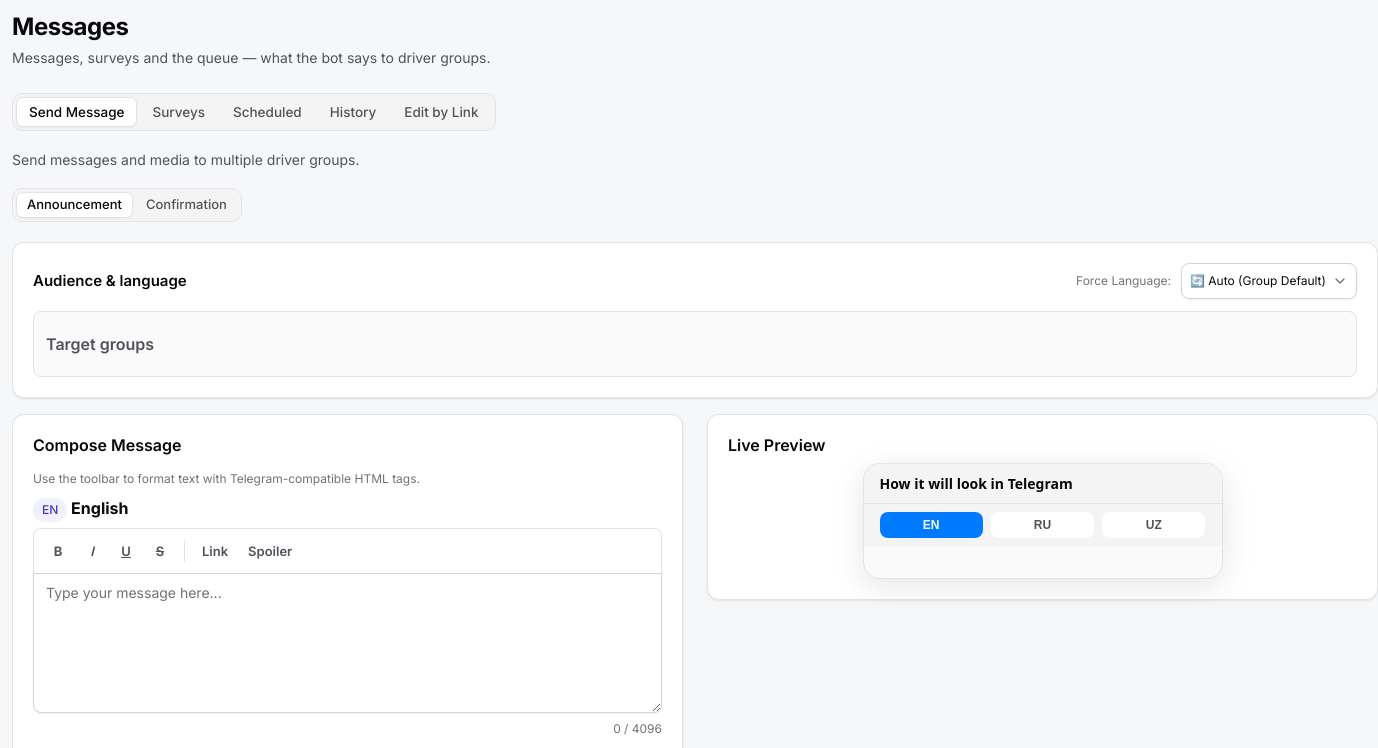
Scenario: one tab failing does not take the section down › the tab bar survives, and another tab still opens
The image size is (1378, 748).
Click the tab "Surveys" at (179, 112), box [140,97,218,127]
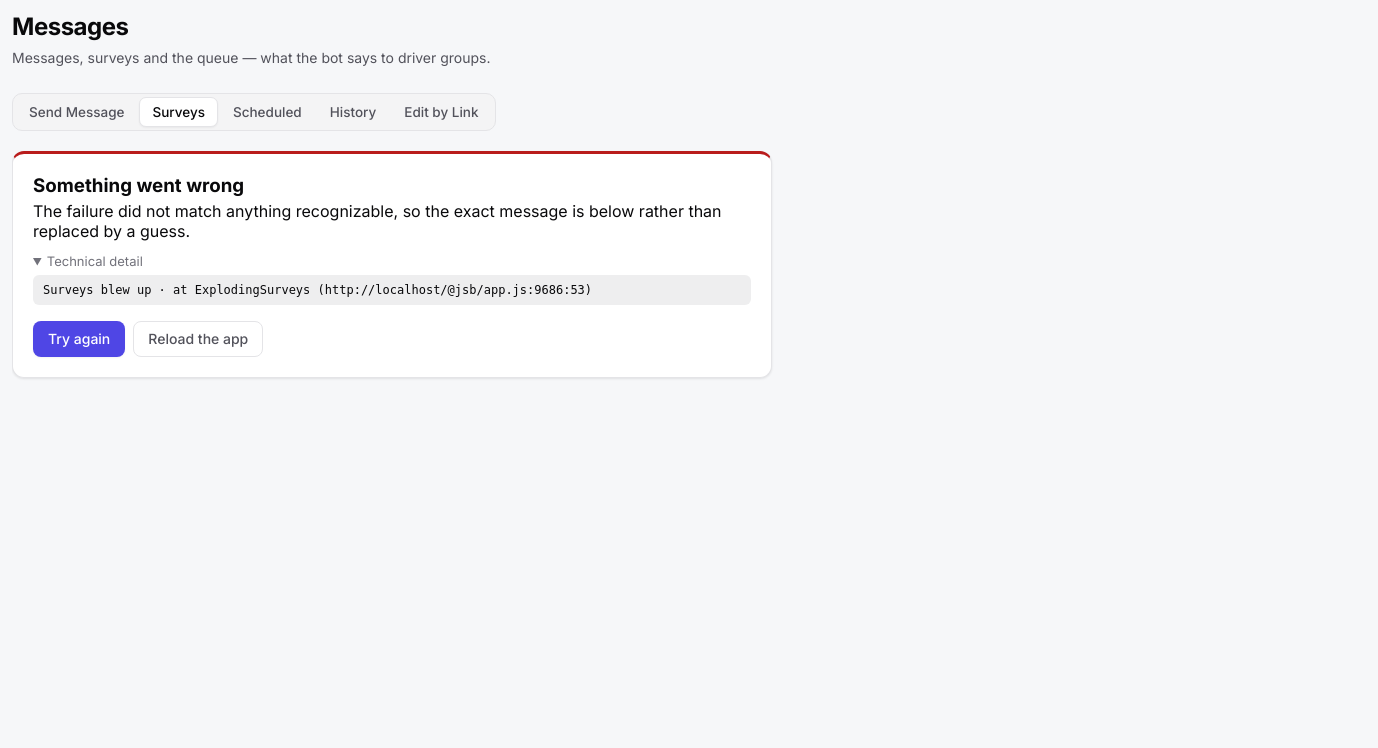
Note: ...and it still works, without leaving the section.
Click the tab "Scheduled" at (267, 112), box [220,97,315,127]
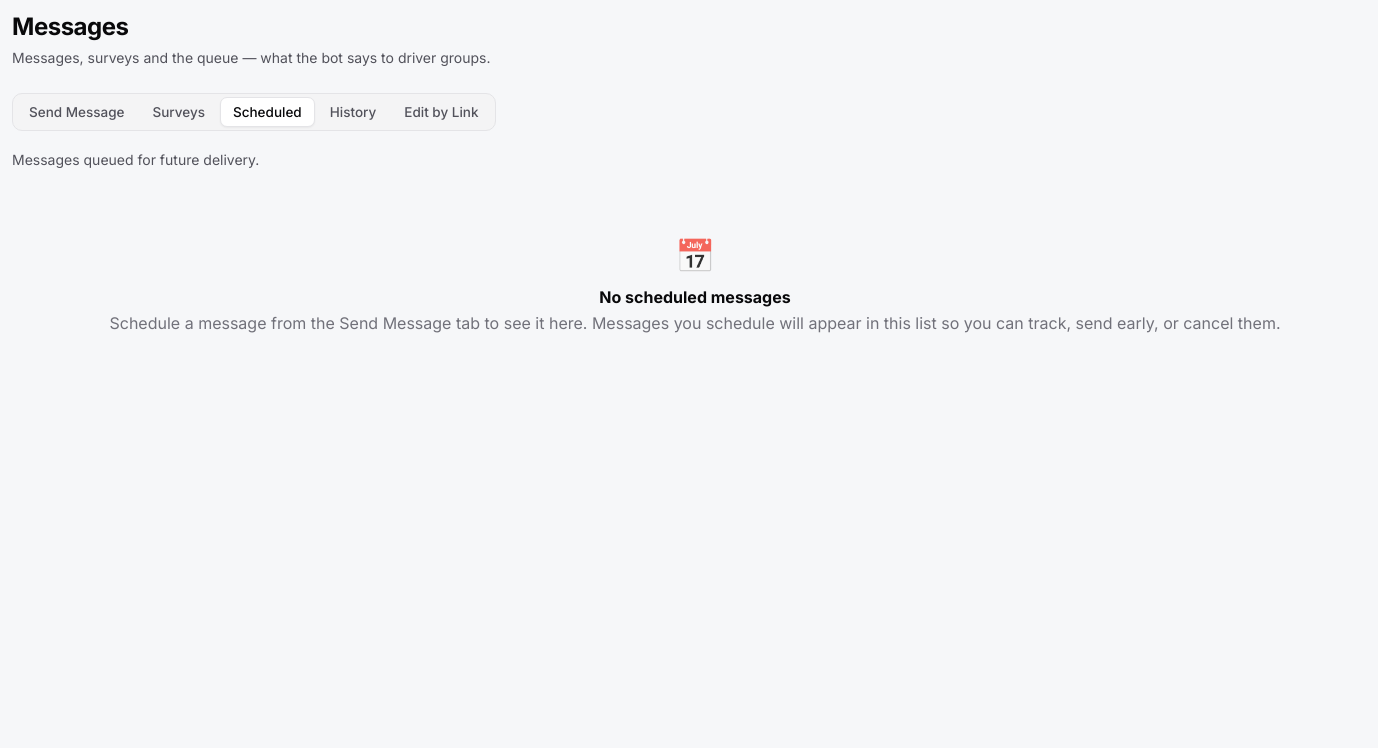
Result: the text "Messages queued for future delivery." is shown at [12,151,259,168]
